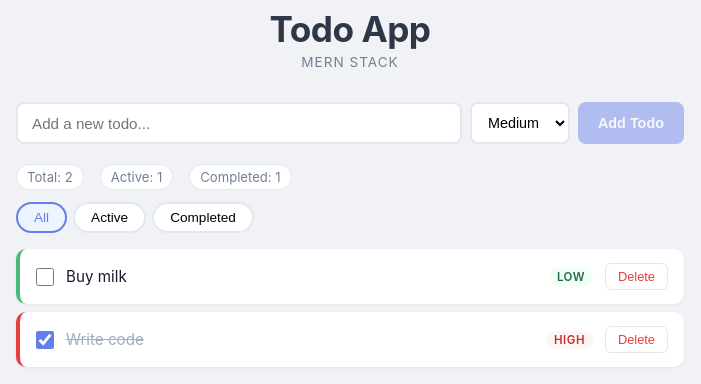
it: App › filters to active todos only
The image size is (701, 384).
Expected: the text "Buy milk" is shown, [66, 267, 127, 286]
Click the button "Active" at (110, 218), box [73, 202, 146, 233]
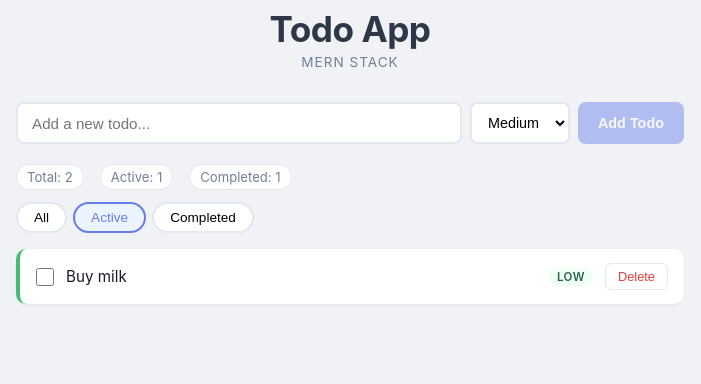
Expected: the text "Buy milk" is shown, [66, 267, 127, 286]
Expected: the text "Write code" is gone
